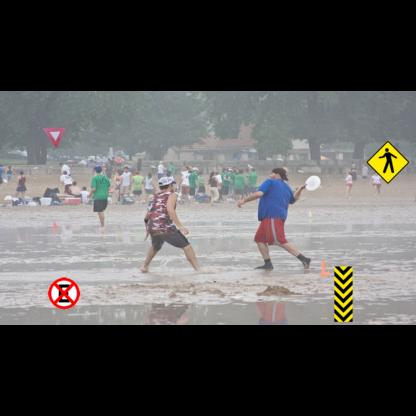A-32a: (366, 141, 409, 184)
O-MP: (334, 266, 352, 322)
R-6c: (48, 277, 80, 309)
